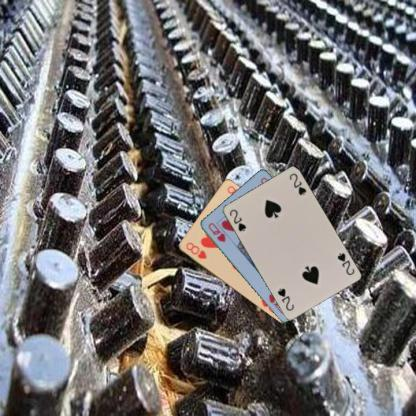2s: (226, 207, 247, 233), (335, 250, 356, 276)
8h: (183, 240, 209, 260)
Qh: (205, 220, 227, 243)
